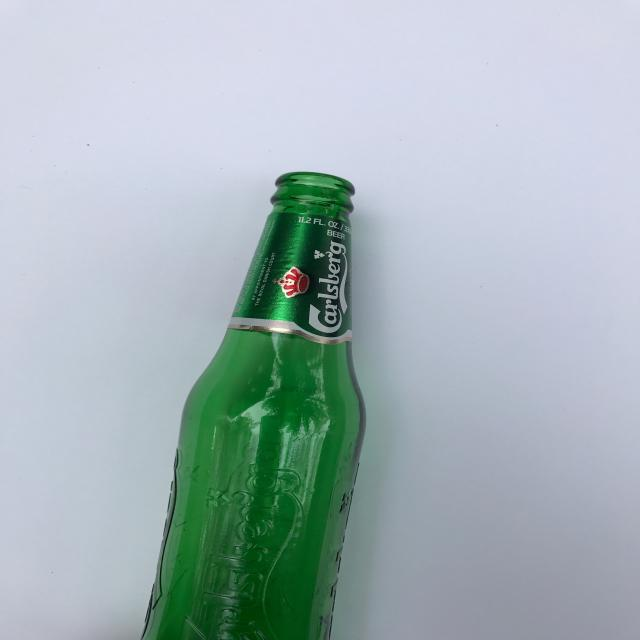glass: (140, 171, 366, 638)
